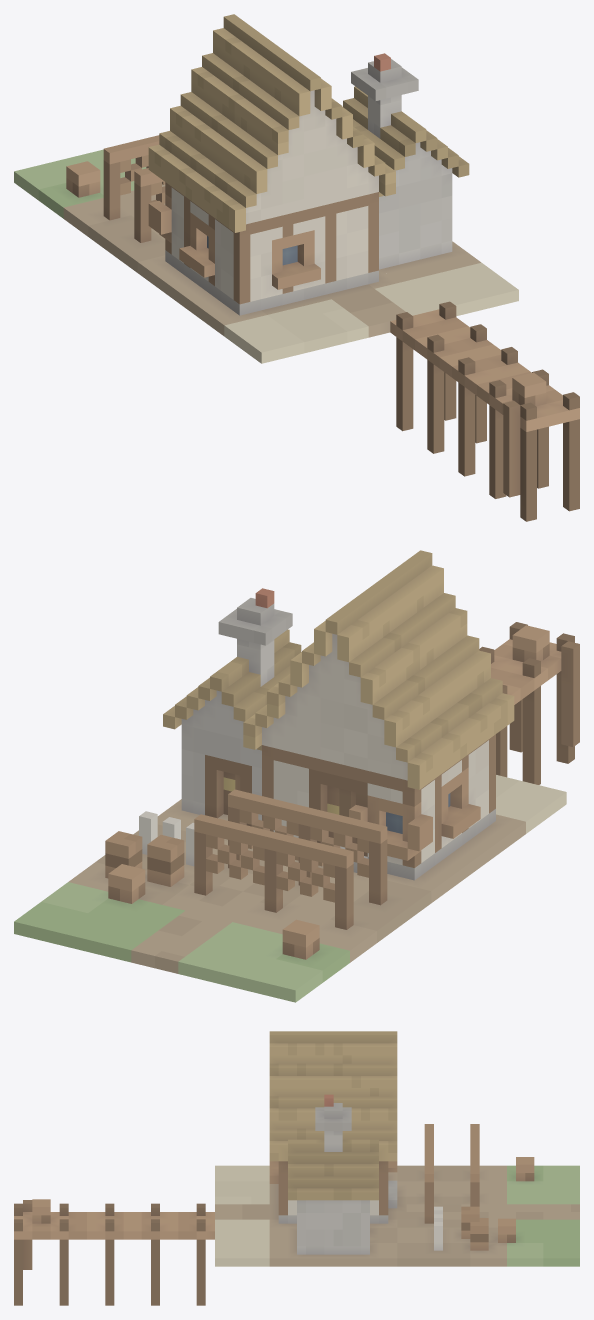
Rendered from fisher.glb.
The picture shows the model from 3 angles, top to bottom: view 1: azimuth 30°, elevation 25°; view 2: azimuth 150°, elevation 25°; view 3: azimuth 270°, elevation 25°; orthographic projection. The views are drawn at different scales.
Visible parts, largest first — view 1: fisher; view 2: fisher; view 3: fisher.
Boxes of the visible parts, left/top/right/bottom form: fisher: left=14, top=14, right=579, bottom=521; fisher: left=14, top=550, right=579, bottom=1002; fisher: left=14, top=1031, right=579, bottom=1305.
Size of the model in its own units: 3 by 3.62 by 7.75.
